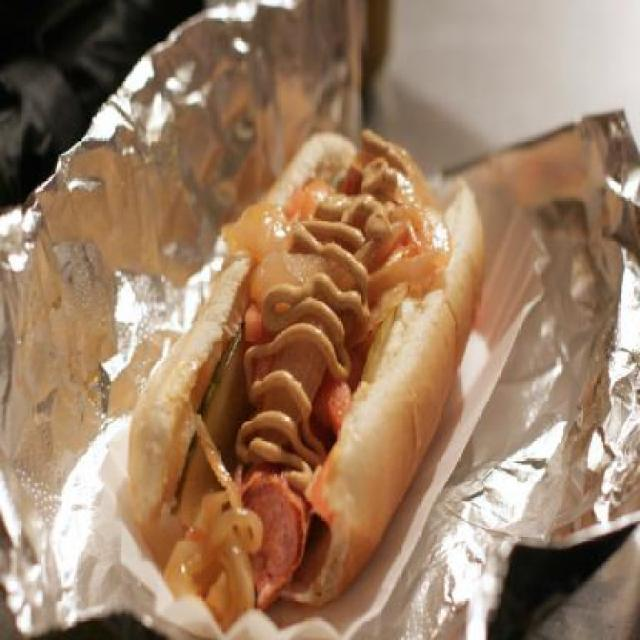Hot dog: (124, 125, 487, 618)
